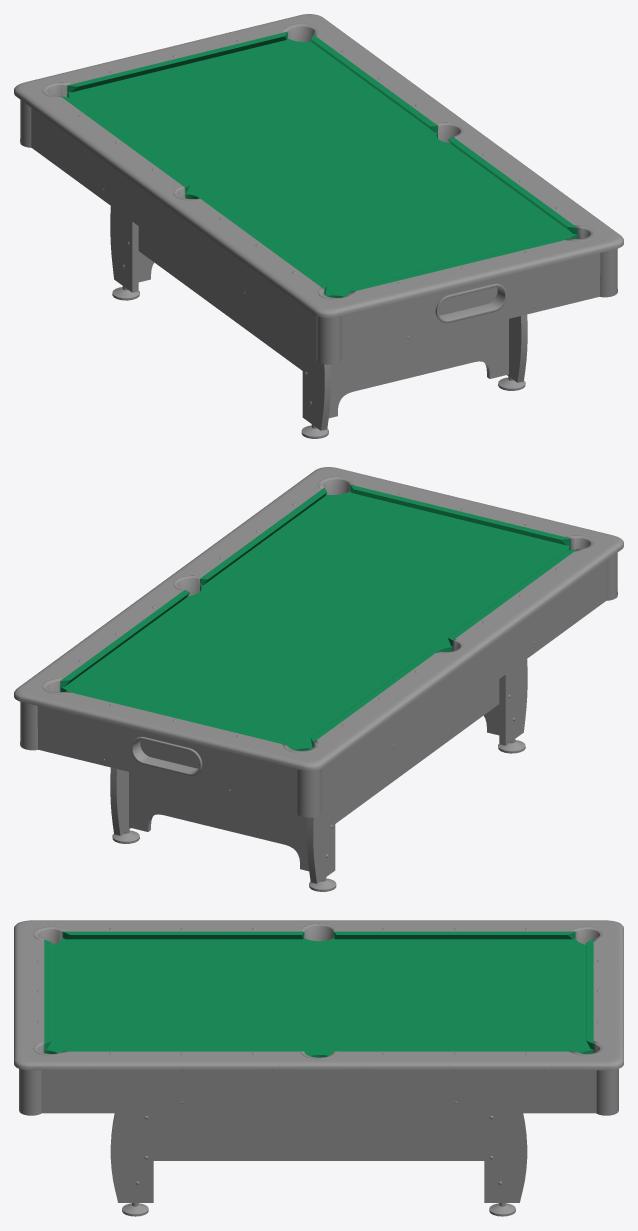
Rendered from Jalano Pool Table.FBX.
3 renders of one model, top to bottom at view 1: azimuth 30°, elevation 25°; view 2: azimuth 150°, elevation 25°; view 3: azimuth 270°, elevation 25°, orthographic. The views are drawn at different scales.
Visible parts, largest first — view 1: Base, Fabric; view 2: Base, Fabric; view 3: Base, Fabric.
Part boxes in pixels (box(x1,y1,x2,y2)): Base: box(14, 14, 623, 438); Fabric: box(61, 31, 577, 297); Base: box(14, 467, 623, 891); Fabric: box(60, 484, 576, 750); Base: box(14, 920, 623, 1216); Fabric: box(44, 931, 593, 1057).
Bounding box in the file's own units: 145 × 80.42 × 257.
